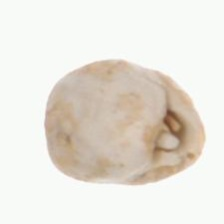L3: (150, 105, 195, 163)
L4: (43, 59, 206, 185)
